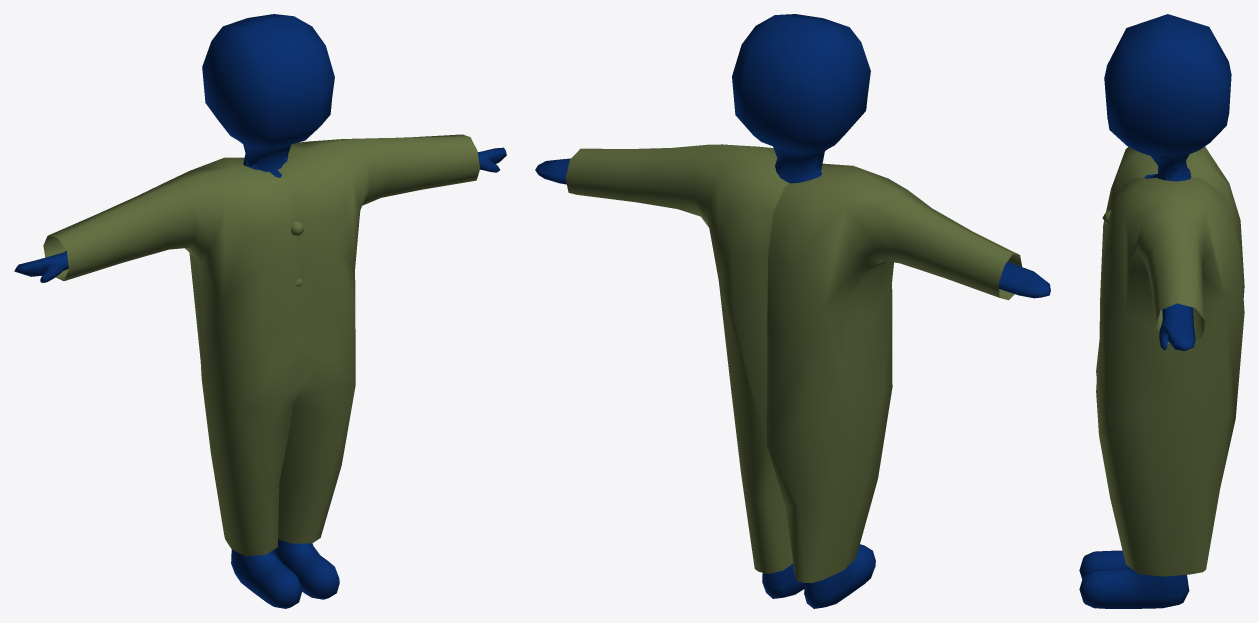
The model's file is askerson.fbx.
3 renders of one model, left to right at view 1: azimuth 30°, elevation 25°; view 2: azimuth 150°, elevation 25°; view 3: azimuth 270°, elevation 25°, orthographic. The views are drawn at different scales.
Visible parts, largest first — view 1: character; view 2: character; view 3: character.
Part boxes in pixels (x1=…): character: x1=14, y1=14, x2=506, y2=608; character: x1=535, y1=14, x2=1050, y2=608; character: x1=1079, y1=14, x2=1244, y2=608.
Size of the model in its own units: 1056 by 1146 by 299.
